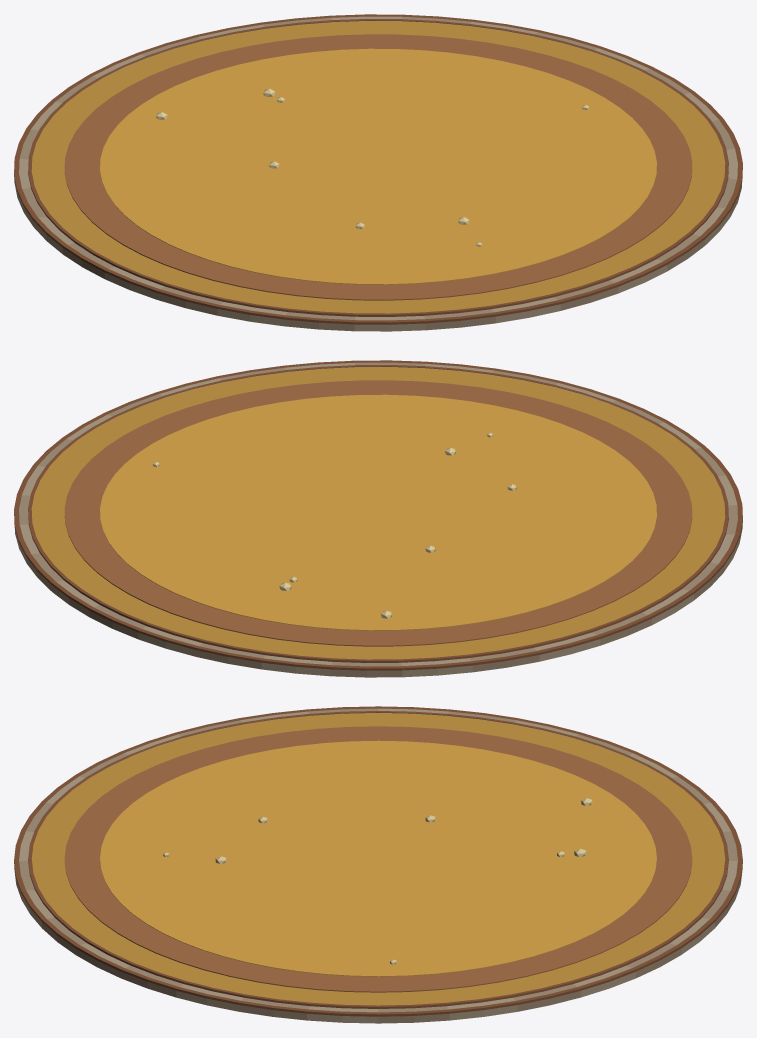
File: goo_jar_foot@winter.fbx
3 views of the same model, one above another, from view 1: azimuth 30°, elevation 25°; view 2: azimuth 150°, elevation 25°; view 3: azimuth 270°, elevation 25° (orthographic).
Visible parts, largest first — view 1: goo_jar_foot; view 2: goo_jar_foot; view 3: goo_jar_foot.
Boxes of the visible parts, x1,y1,x2,y2 form: goo_jar_foot: (14, 14, 742, 331); goo_jar_foot: (14, 360, 742, 677); goo_jar_foot: (14, 706, 742, 1023).
Size of the model in its own units: 80.1 by 2.08 by 80.1.
